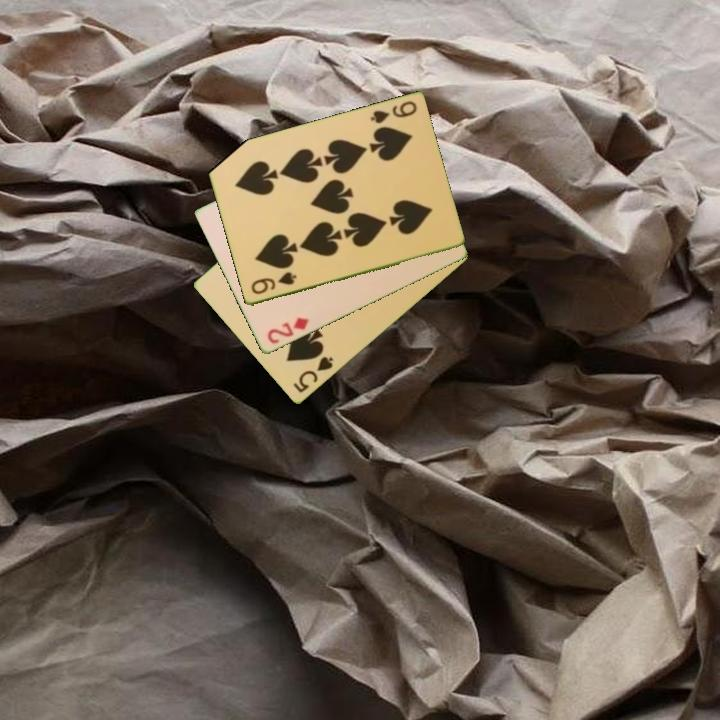2d: (264, 314, 312, 347)
5s: (290, 353, 336, 396)
9s: (367, 97, 420, 127), (247, 269, 300, 298)
